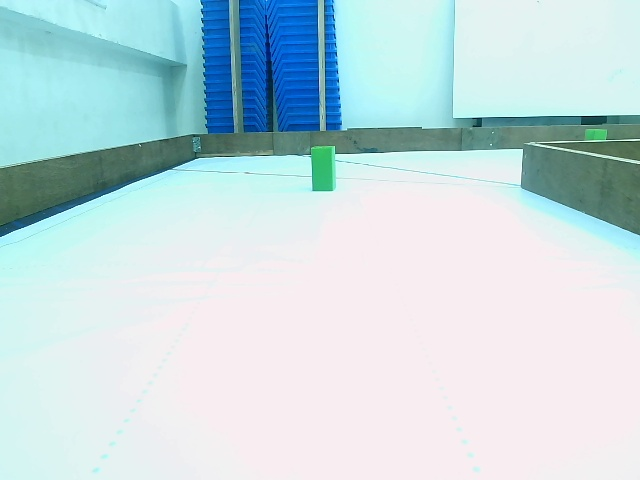green: (309, 143, 338, 194)
